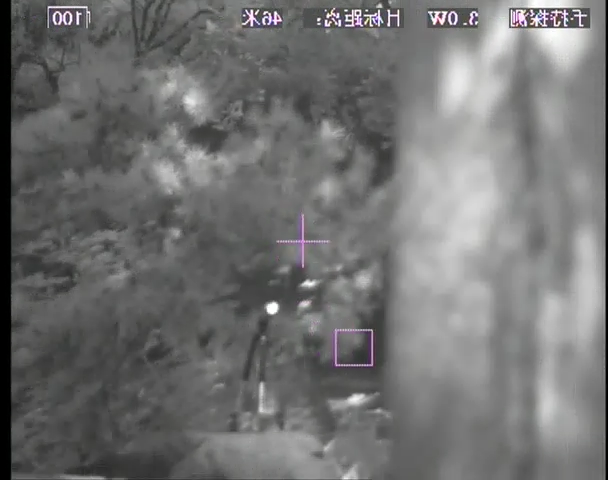my: (264, 300, 279, 316)
